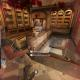Character: (0, 26, 36, 80), (34, 22, 38, 27)
